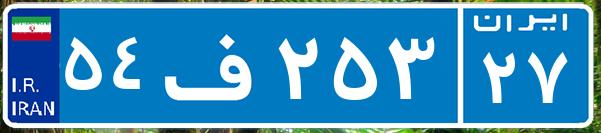2: (273, 28, 330, 110), (475, 38, 525, 113)
3: (385, 28, 445, 110)
4: (110, 28, 158, 105)
5: (330, 28, 385, 110), (57, 26, 110, 107)
7: (525, 38, 570, 115)
ف: (158, 15, 273, 115)
